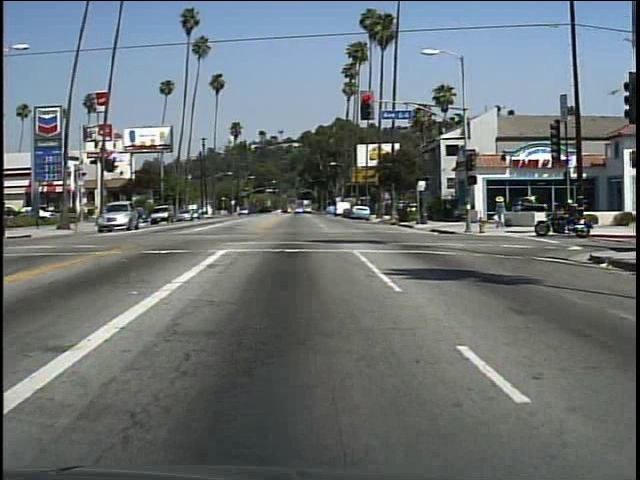person: (554, 194, 579, 234), (490, 190, 507, 229)
